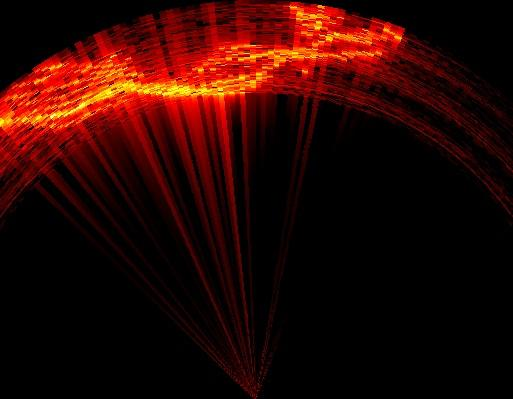shipwreck: (250, 5, 405, 76), (0, 64, 127, 135), (114, 63, 270, 96)
